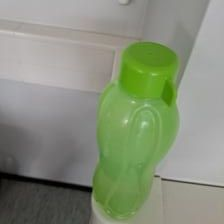bottle: (89, 40, 184, 218)
